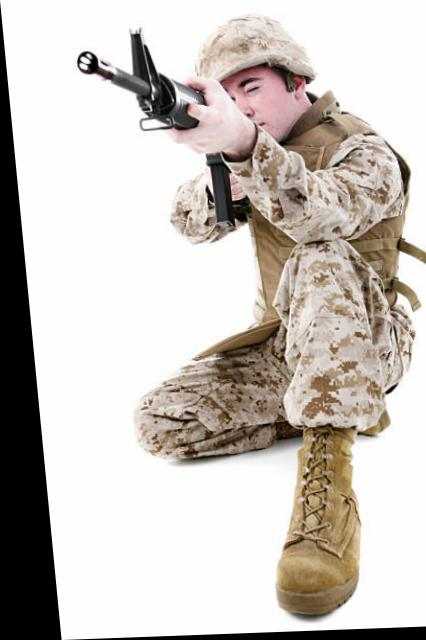other: (104, 13, 411, 451)
